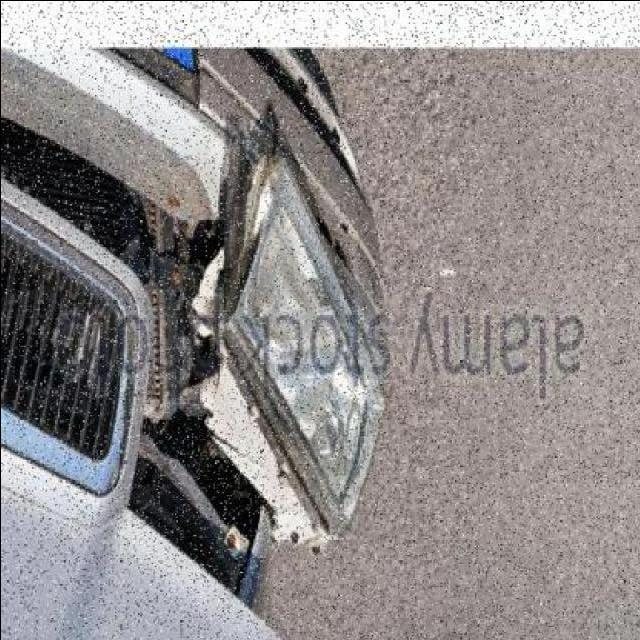Headlight-Damage: (167, 137, 400, 569)
